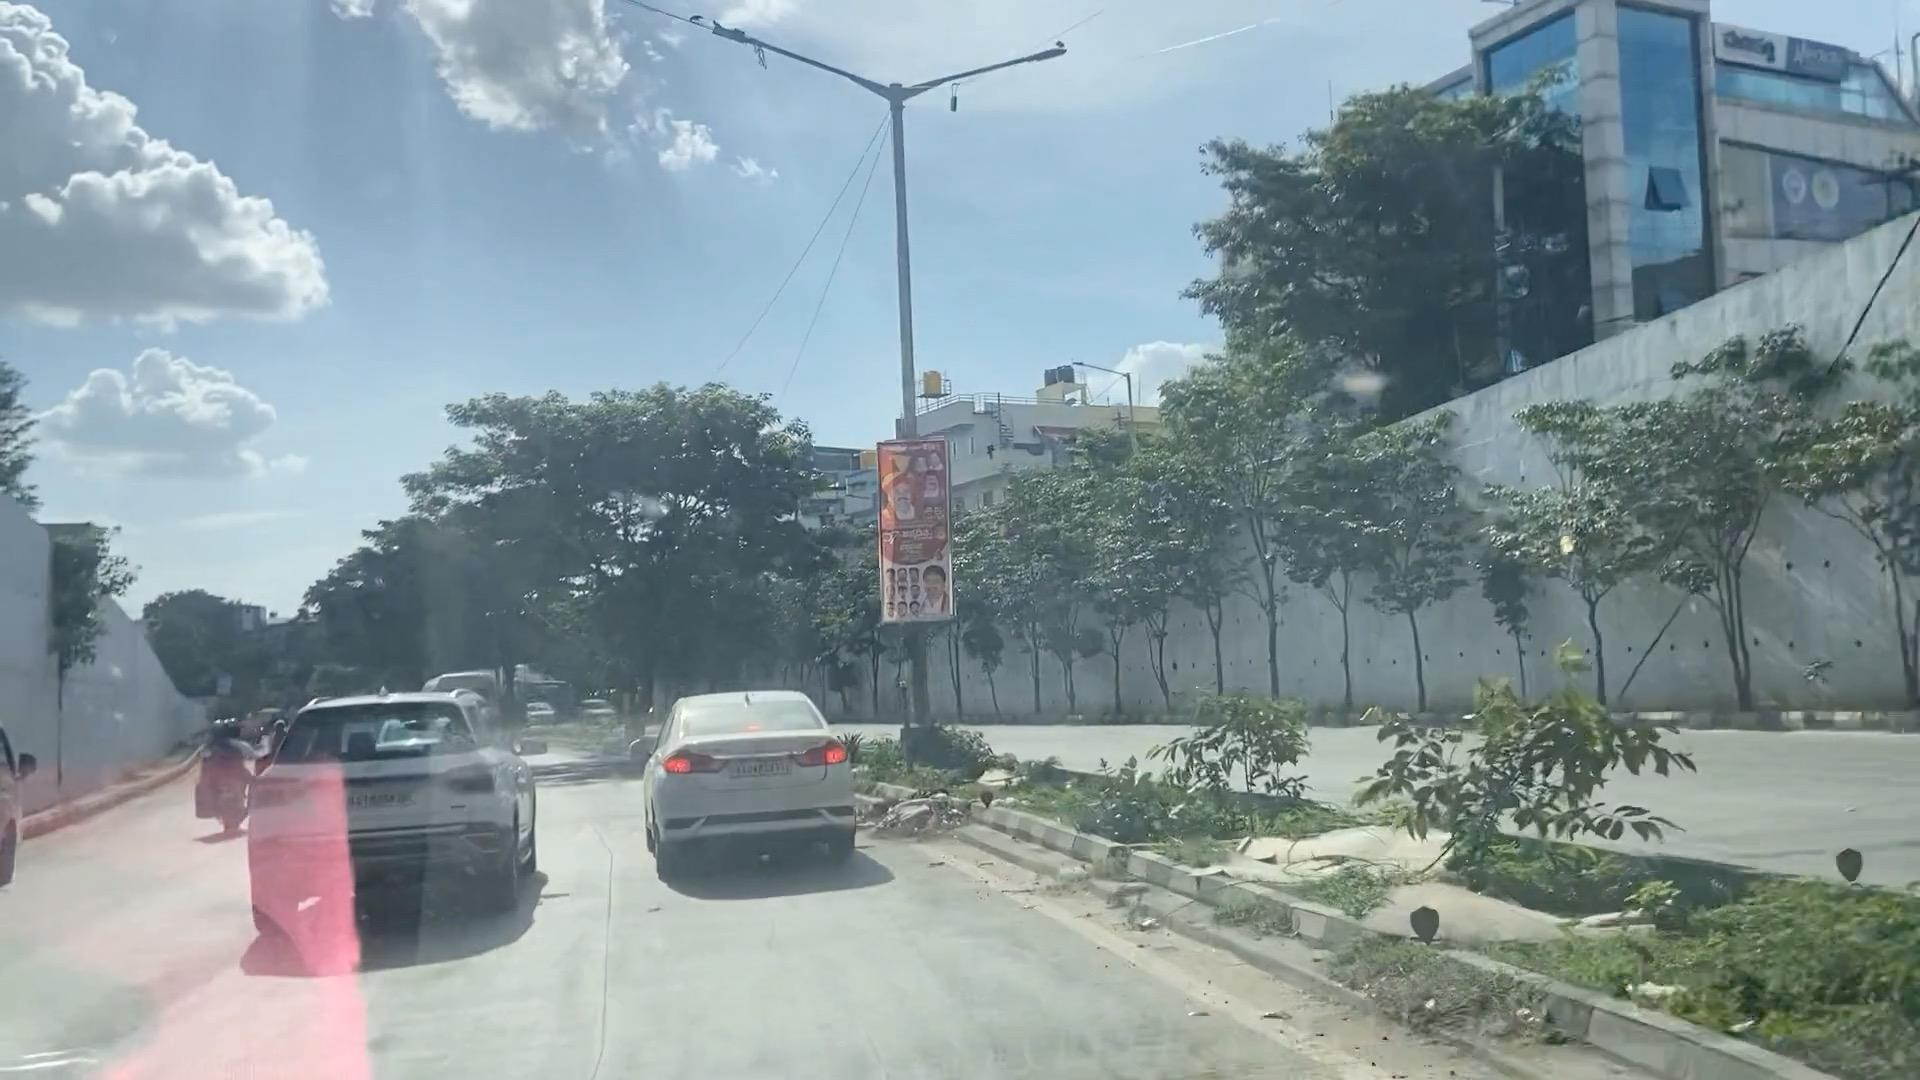LMV: (252, 698, 542, 920), (653, 690, 848, 851)
